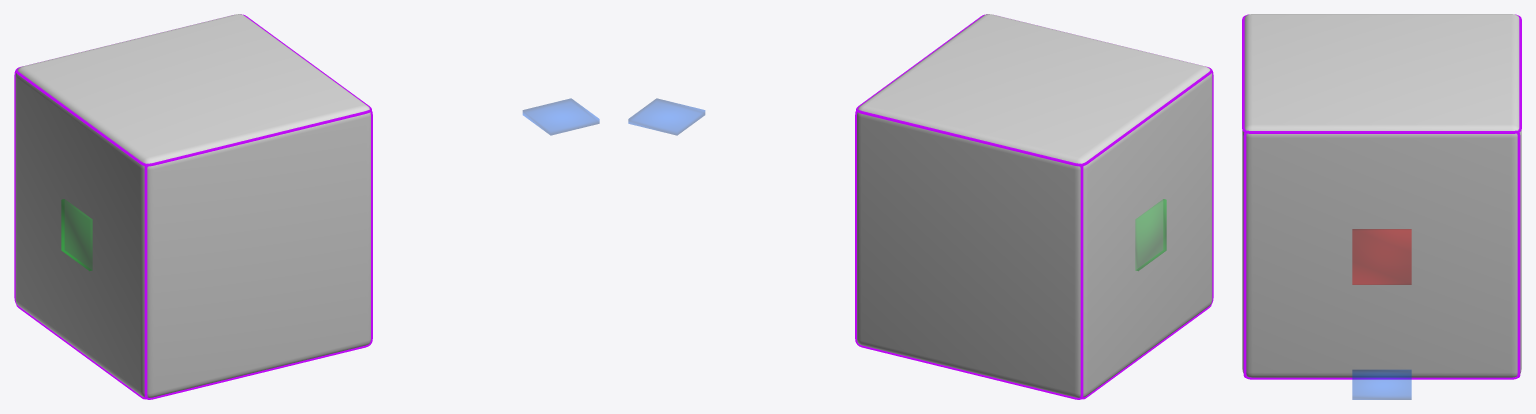
File: transcendence_curve.glb
3 views of the same model, side by side, from view 1: azimuth 30°, elevation 25°; view 2: azimuth 150°, elevation 25°; view 3: azimuth 270°, elevation 25° (orthographic). The views are drawn at different scales.
Visible parts, largest first — view 1: arena, edges, paddle1, paddle3; view 2: arena, edges, paddle1, paddle3; view 3: arena, edges, paddle2, paddle1.
Boxes of the visible parts, box(x1,y1,x2,y2) form: arena: box(15, 14, 370, 397); edges: box(14, 14, 372, 399); paddle1: box(523, 98, 599, 135); paddle3: box(61, 199, 92, 270); arena: box(857, 14, 1212, 397); edges: box(855, 14, 1213, 399); paddle1: box(628, 98, 704, 135); paddle3: box(1135, 199, 1166, 270); arena: box(1242, 14, 1521, 377); edges: box(1242, 14, 1521, 379); paddle2: box(1352, 229, 1411, 284); paddle1: box(1352, 370, 1411, 399).
Size of the model in its own units: 4.14 by 1.87 by 1.87.
